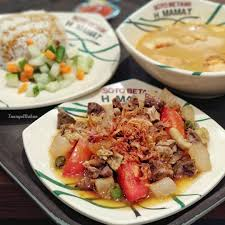soto: (48, 91, 215, 211), (117, 5, 225, 76)
